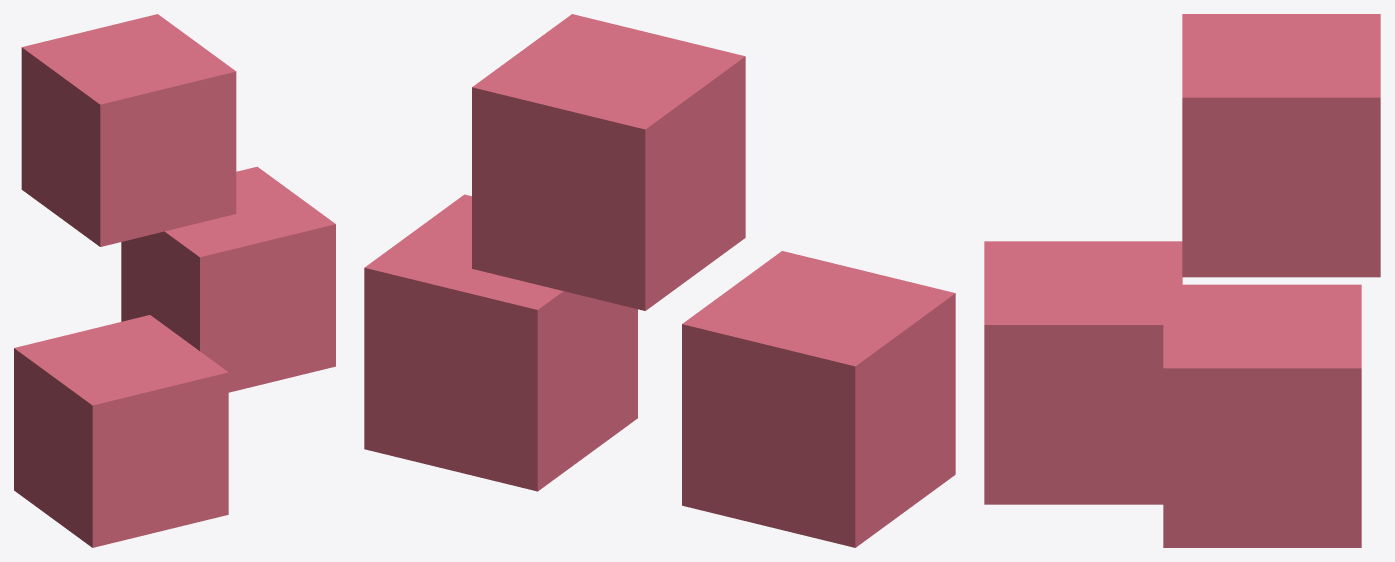
The picture shows the model from 3 angles, left to right: view 1: azimuth 30°, elevation 25°; view 2: azimuth 150°, elevation 25°; view 3: azimuth 270°, elevation 25°; orthographic projection. The views are drawn at different scales.
Parts seen in each view (by area): view 1: CubeB, CubeC, CubeA; view 2: CubeB, CubeC, CubeA; view 3: CubeA, CubeB, CubeC.
Part boxes in pixels (x1,y1,x2,y2): CubeB: (21,14,236,246); CubeC: (14,315,228,547); CubeA: (121,166,335,392); CubeB: (472,14,745,310); CubeC: (682,251,955,547); CubeA: (364,194,637,491); CubeA: (1163,284,1361,547); CubeB: (1182,14,1380,277); CubeC: (984,241,1182,504).
Size of what is drawn, in the model's own units: 4.62 by 5.12 by 4.
